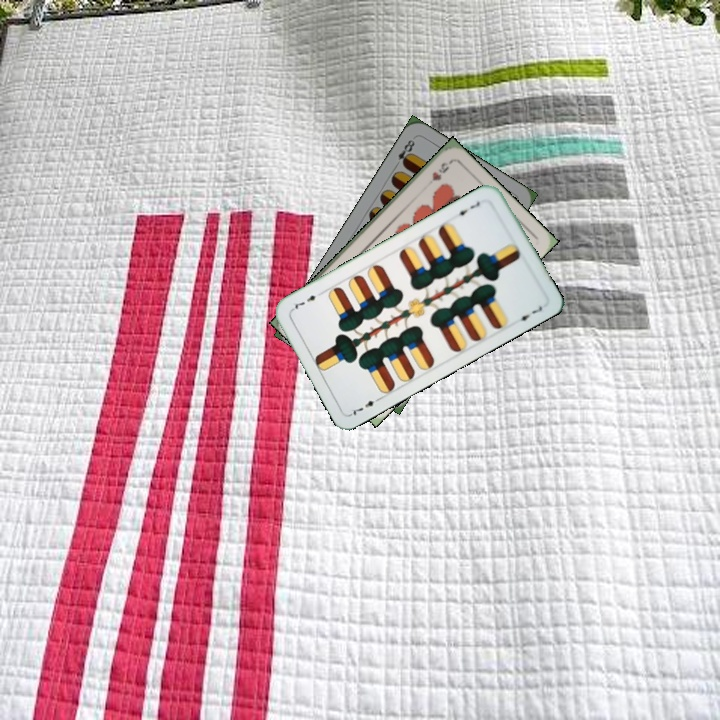E7: (347, 393, 384, 418), (451, 197, 483, 218)
E8: (390, 135, 417, 170)
H9: (428, 157, 454, 183)
